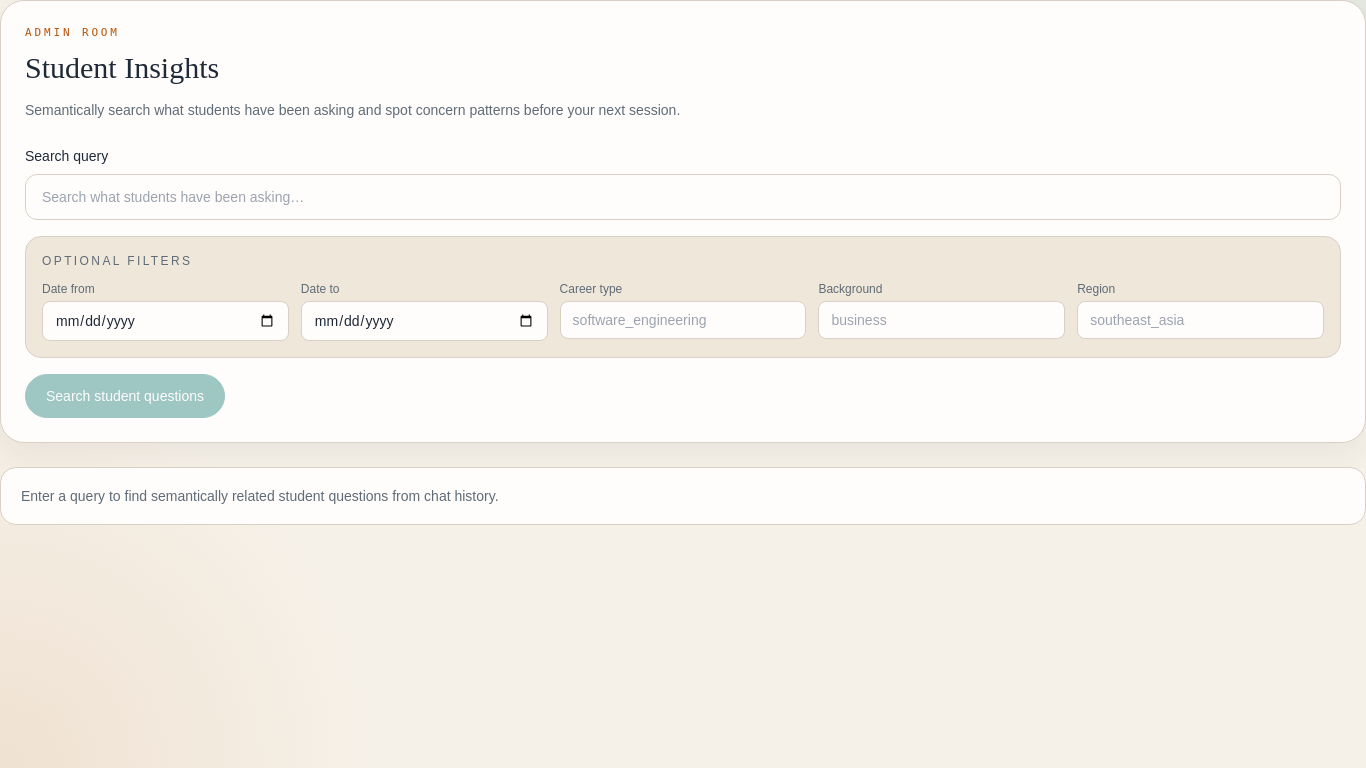
Scenario: StudentInsightsTab › renders dedicated disabled state when backend reports feature disabled
This screenshot has width=1366, height=768.
Type "international hiring concerns" into the field labelled "Search query". click: (683, 196)
box: [25, 174, 1341, 220]
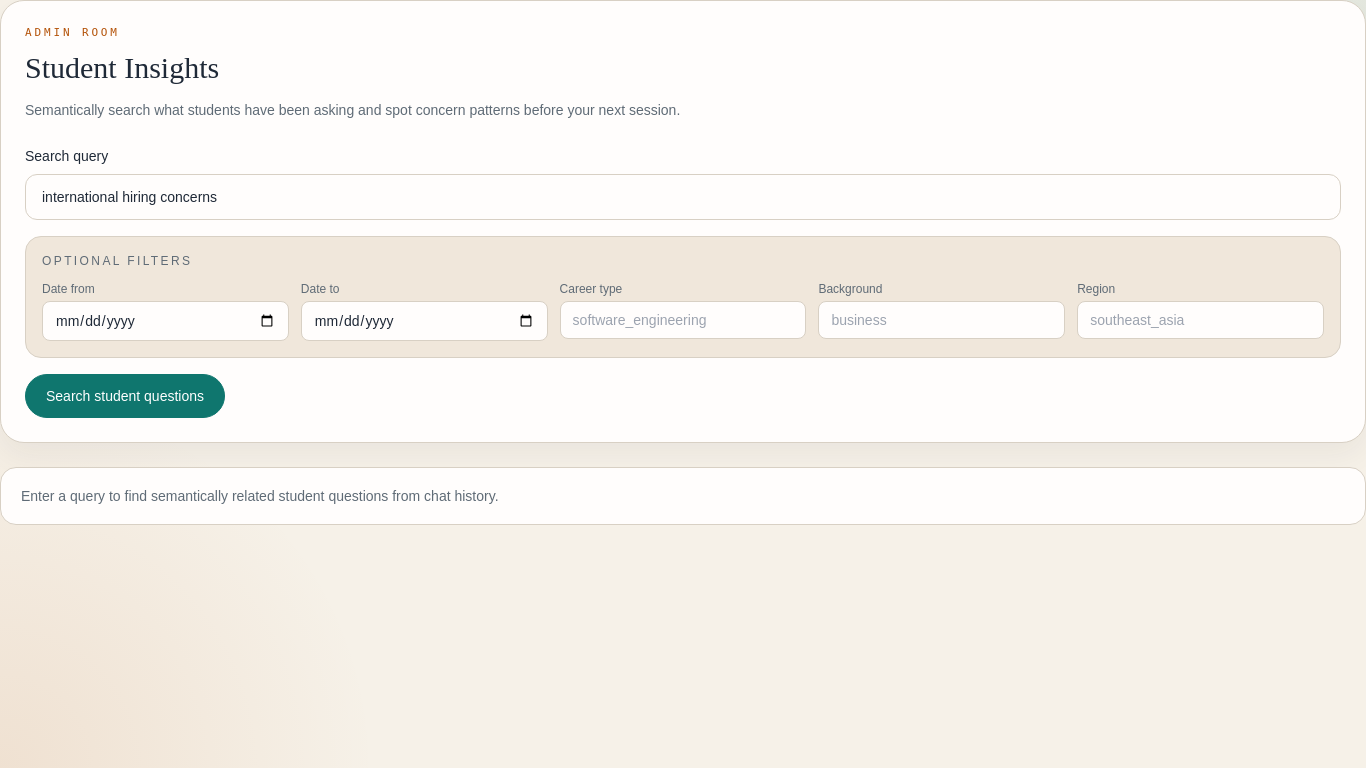
Click the button "Search student questions". click: (125, 396)
box: [25, 374, 225, 418]
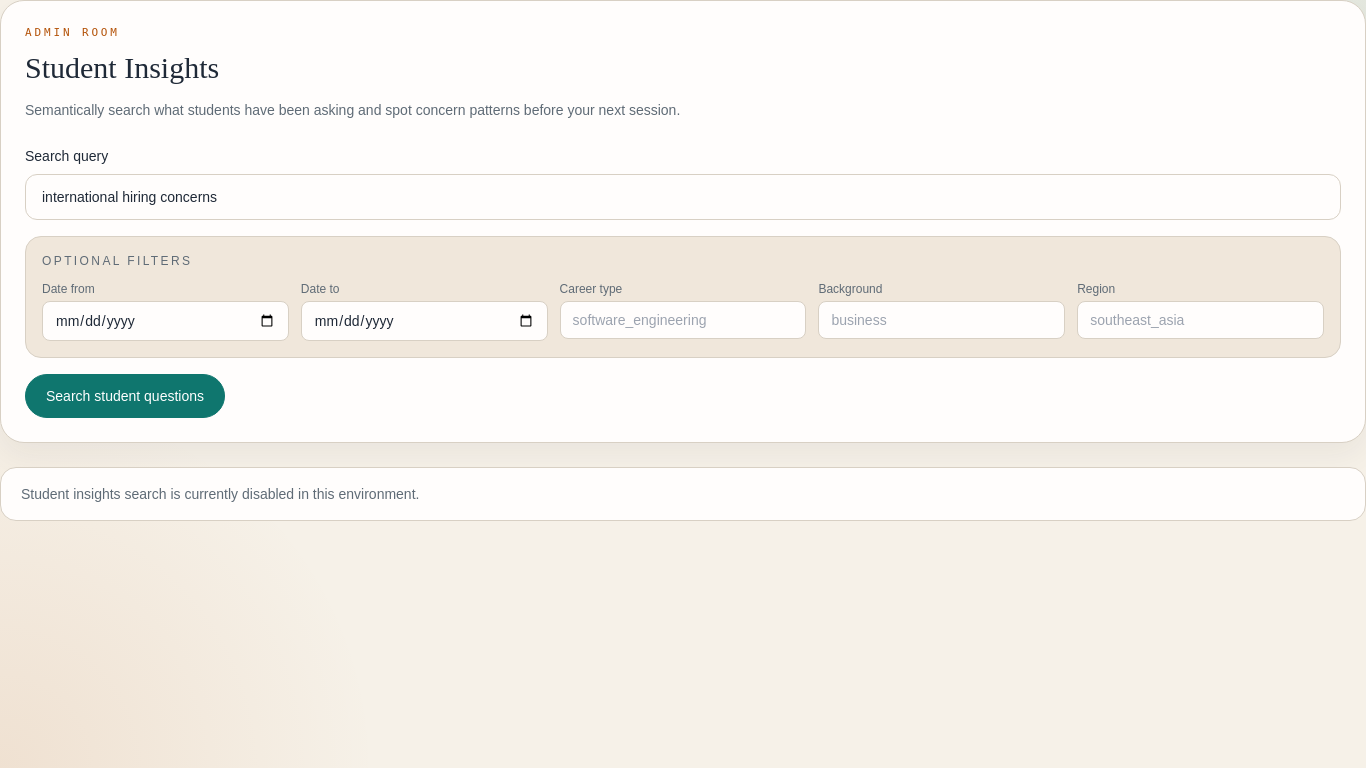
Now the text "Student insights search is currently disabled in this environment." is shown, box [0, 466, 1365, 520]
